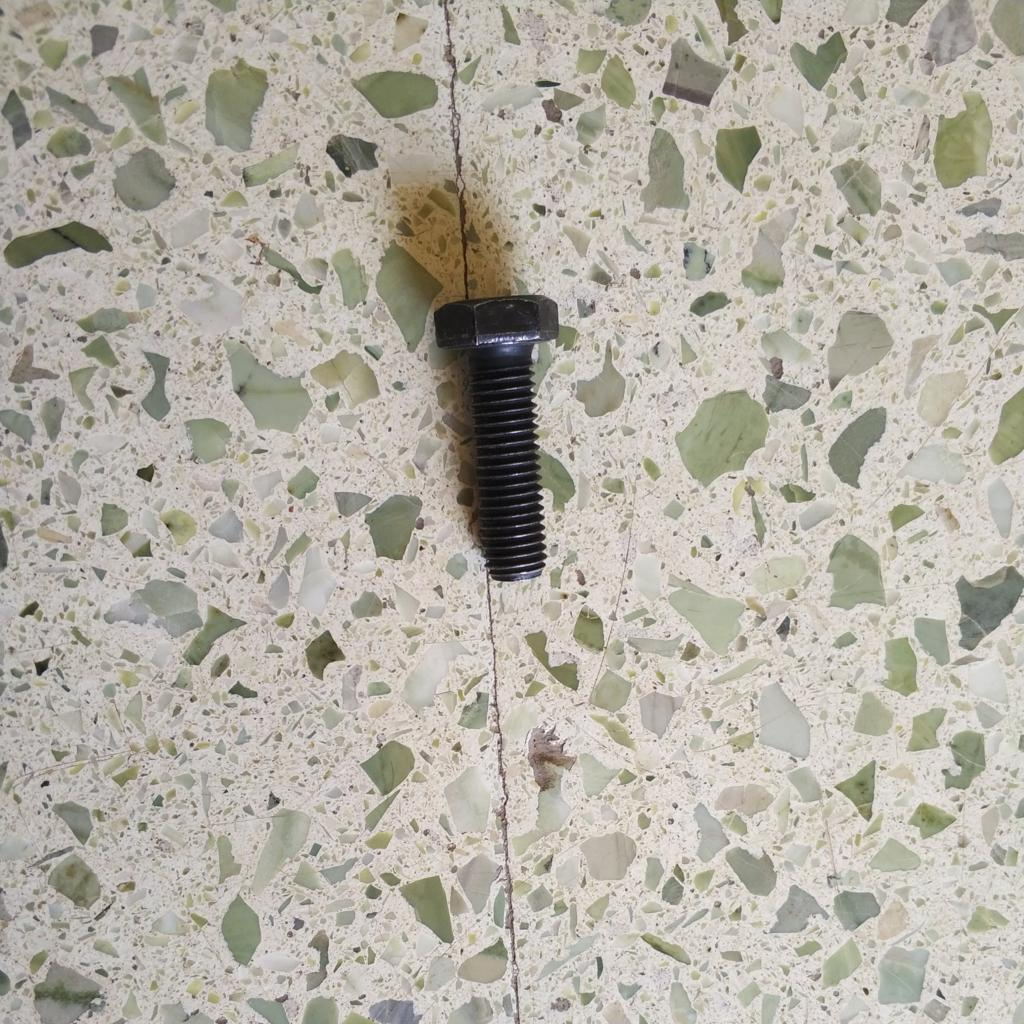screwtype2black: (428, 290, 568, 586)
